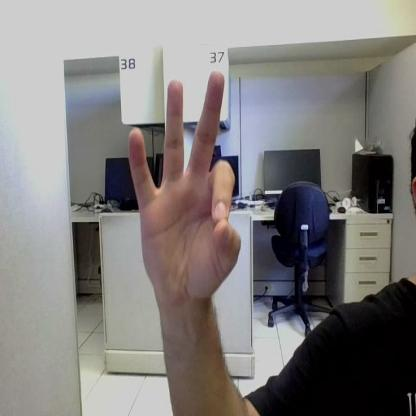F: (129, 71, 240, 297)
